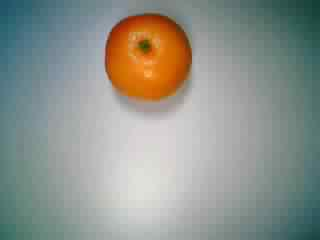orange: (99, 10, 193, 109)
